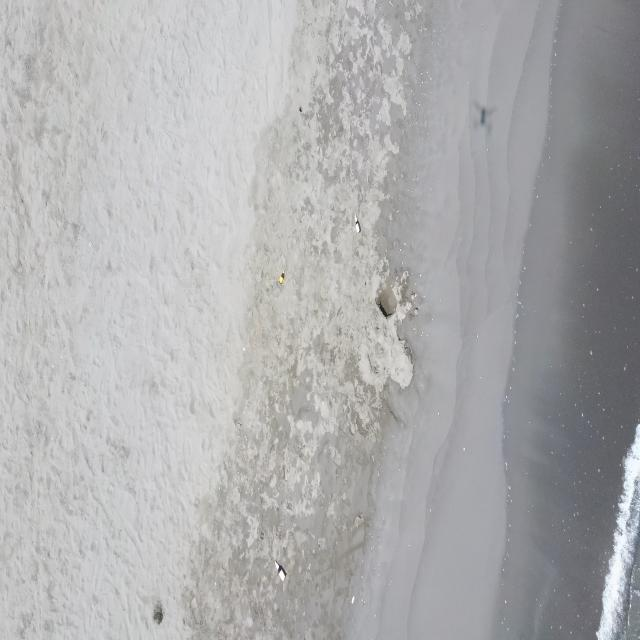glass: (274, 560, 286, 583), (354, 214, 361, 234), (278, 269, 286, 286)
